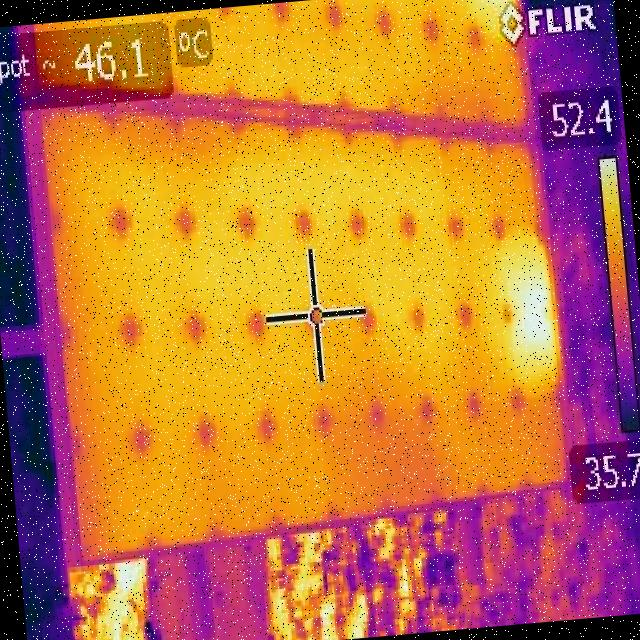Hotspot: (490, 214, 568, 410), (471, 0, 521, 14)
